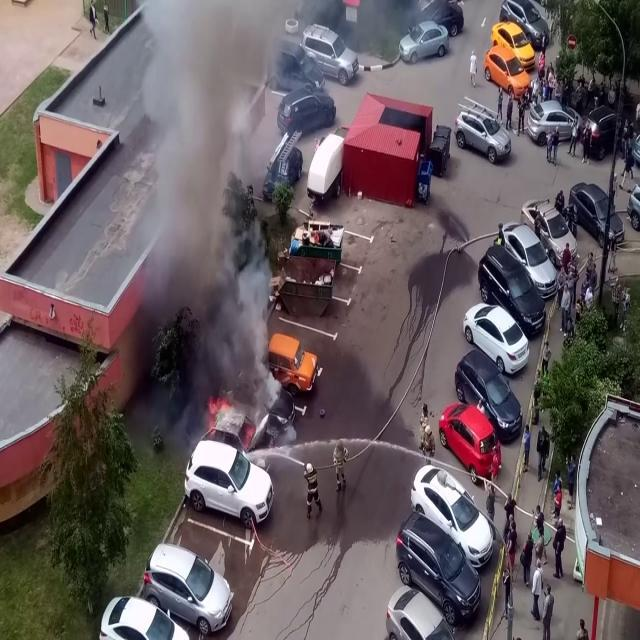Smoke: (130, 0, 276, 421)
